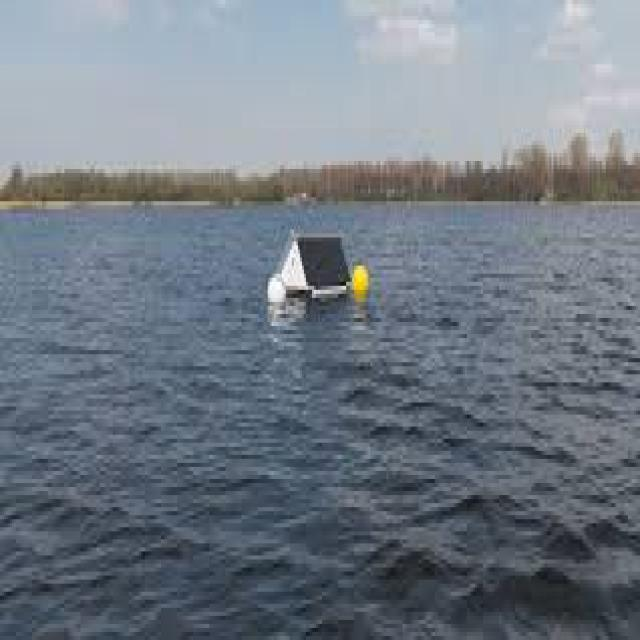buoy: (256, 204, 380, 338)
